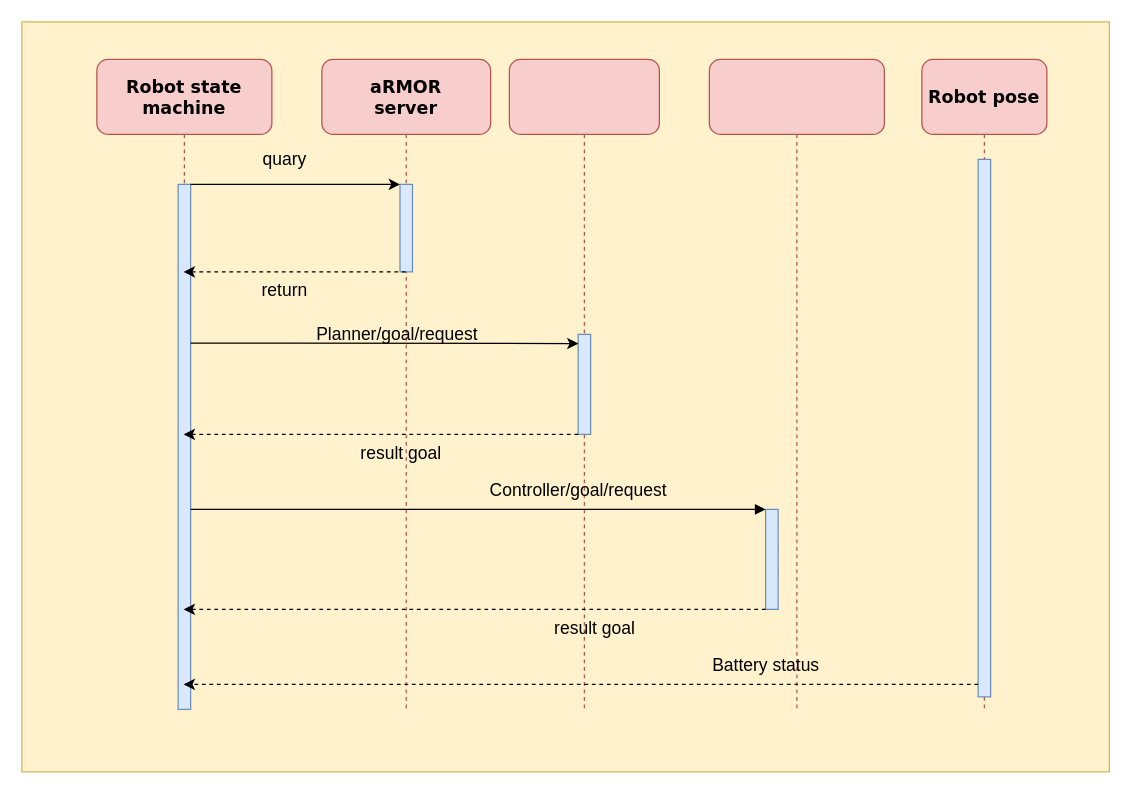
Image size: 1131x794. Some labels were removed from this diagram. The box of each missing label's shape, as (x1, y1, x2, y2) in pixels:
Planner: (508, 58, 659, 709)
robotcontrollerserver: (708, 58, 884, 709)
